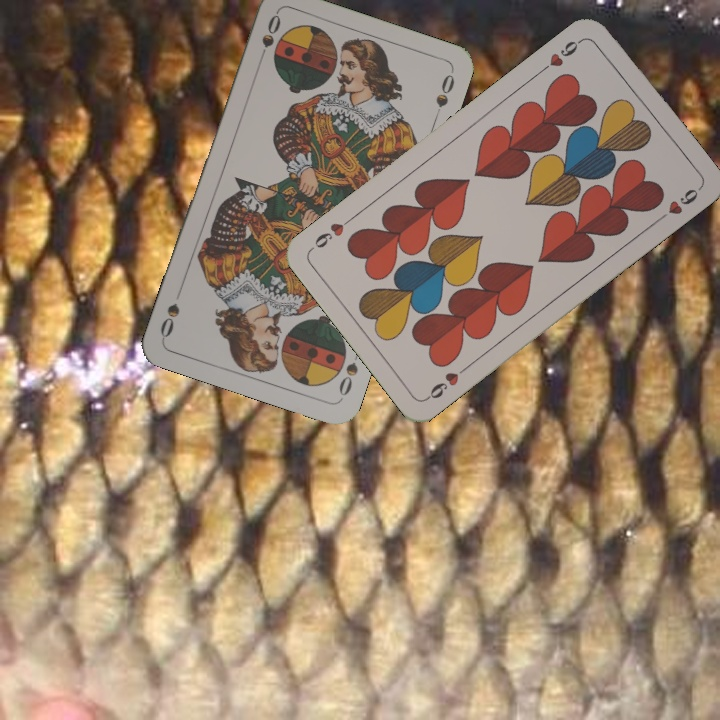H9: (422, 361, 472, 403), (536, 34, 586, 75)
SO: (254, 10, 284, 67), (335, 344, 364, 399)
